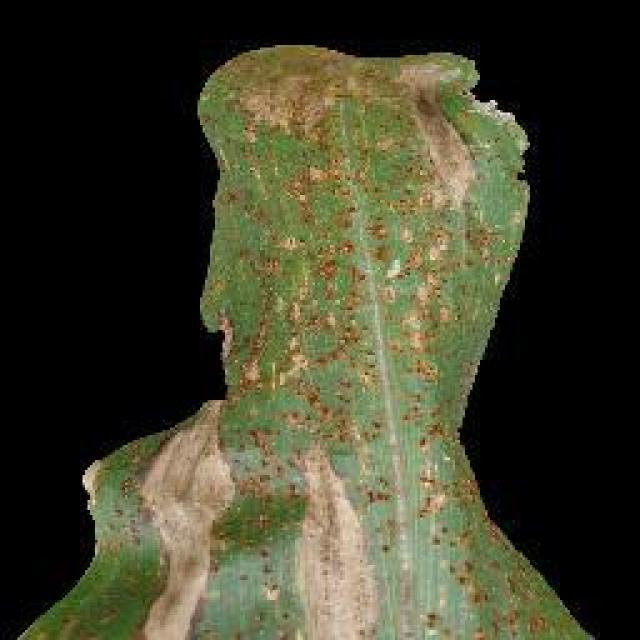Corn Common Rust: (222, 81, 485, 566)
